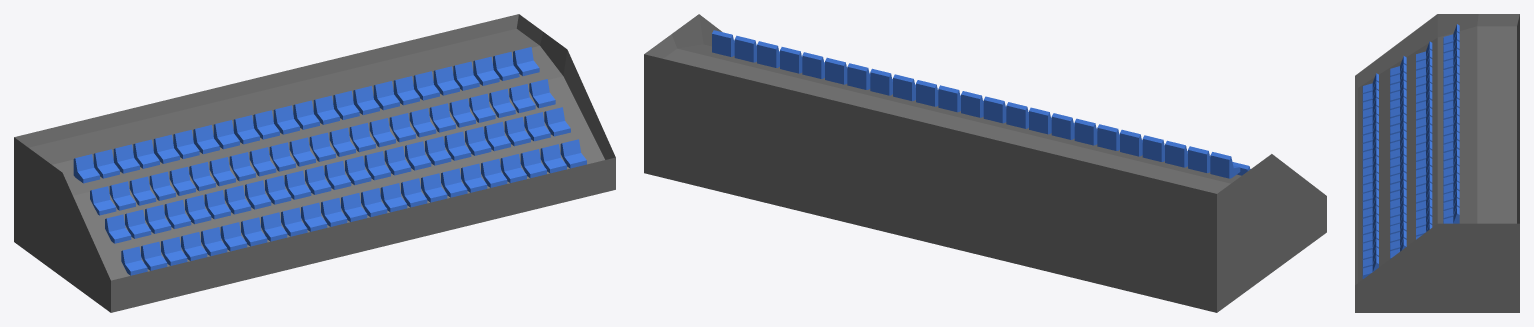
The model's file is Stands.glb.
3 renders of one model, left to right at view 1: azimuth 30°, elevation 25°; view 2: azimuth 150°, elevation 25°; view 3: azimuth 270°, elevation 25°, orthographic. The views are drawn at different scales.
Visible parts, largest first — view 1: Stands_Base, Seat.089, Seat.076, Seat.081, Seat.074, Seat.084, Seat.091, Seat.034, Seat.072, Seat.082, Seat.086, Seat.088 (+81 smaller); view 2: Stands_Base, Seat.089, Seat.081, Seat.080, Seat.084, Seat.074, Seat.073, Seat.077, Seat.087, Seat.069, Seat.076, Seat.083 (+12 smaller); view 3: Stands_Base, Seat.019, Seat.088, Seat.037, Seat.081, Seat.025, Seat.026, Seat.029, Seat.031, Seat.033, Seat.034, Seat.035 (+79 smaller).
Boxes of the visible parts, x1=… form: Stands_Base: x1=14, y1=14, x2=615, y2=312; Seat.089: x1=73, y1=154, x2=100, y2=183; Seat.076: x1=433, y1=66, x2=459, y2=95; Seat.081: x1=213, y1=120, x2=239, y2=149; Seat.074: x1=393, y1=76, x2=419, y2=105; Seat.084: x1=273, y1=105, x2=299, y2=134; Seat.091: x1=113, y1=144, x2=139, y2=173; Seat.034: x1=224, y1=185, x2=251, y2=214; Seat.072: x1=353, y1=86, x2=379, y2=115; Seat.082: x1=233, y1=115, x2=259, y2=144; Seat.086: x1=473, y1=56, x2=499, y2=85; Seat.088: x1=513, y1=47, x2=539, y2=76; Stands_Base: x1=644, y1=14, x2=1326, y2=312; Seat.089: x1=1210, y1=152, x2=1240, y2=178; Seat.081: x1=1051, y1=113, x2=1074, y2=139; Seat.080: x1=1074, y1=118, x2=1097, y2=145; Seat.084: x1=983, y1=96, x2=1006, y2=123; Seat.074: x1=847, y1=63, x2=870, y2=89; Seat.073: x1=870, y1=68, x2=892, y2=95; Seat.077: x1=1142, y1=135, x2=1164, y2=161; Seat.087: x1=734, y1=35, x2=756, y2=62; Seat.069: x1=961, y1=91, x2=983, y2=117; Seat.076: x1=802, y1=52, x2=824, y2=78; Seat.083: x1=1006, y1=102, x2=1028, y2=128; Stands_Base: x1=1355, y1=14, x2=1519, y2=312; Seat.019: x1=1362, y1=255, x2=1378, y2=278; Seat.088: x1=1443, y1=206, x2=1459, y2=223; Seat.037: x1=1390, y1=130, x2=1406, y2=153; Seat.081: x1=1443, y1=82, x2=1459, y2=104; Seat.025: x1=1390, y1=164, x2=1406, y2=186; Seat.026: x1=1390, y1=172, x2=1406, y2=194; Seat.029: x1=1390, y1=197, x2=1406, y2=219; Seat.031: x1=1390, y1=81, x2=1406, y2=103; Seat.033: x1=1390, y1=97, x2=1406, y2=119; Seat.034: x1=1390, y1=106, x2=1406, y2=128; Seat.035: x1=1390, y1=114, x2=1406, y2=136.
Bounding box in the file's own units: 60.2 × 11.97 × 20.
